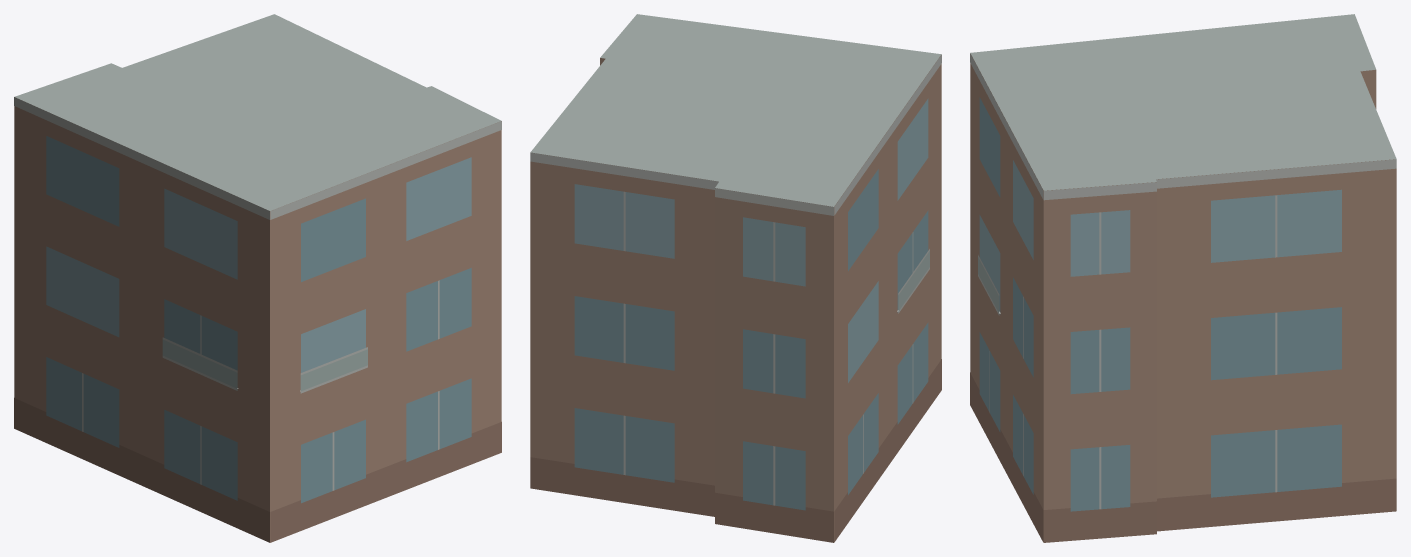
Rendered from survey-upis-32680082.glb.
3 renders of one model, left to right at view 1: azimuth 30°, elevation 25°; view 2: azimuth 150°, elevation 25°; view 3: azimuth 270°, elevation 25°, orthographic. The views are drawn at different scales.
Parts seen in each view (by area): view 1: survey-upis-32680082.tmp; view 2: survey-upis-32680082.tmp; view 3: survey-upis-32680082.tmp.
Part boxes in pixels (x1=…): survey-upis-32680082.tmp: x1=14, y1=14, x2=501, y2=542; survey-upis-32680082.tmp: x1=530, y1=14, x2=941, y2=542; survey-upis-32680082.tmp: x1=970, y1=14, x2=1396, y2=542.
Size of the model in its own units: 9.69 by 9 by 9.89.
